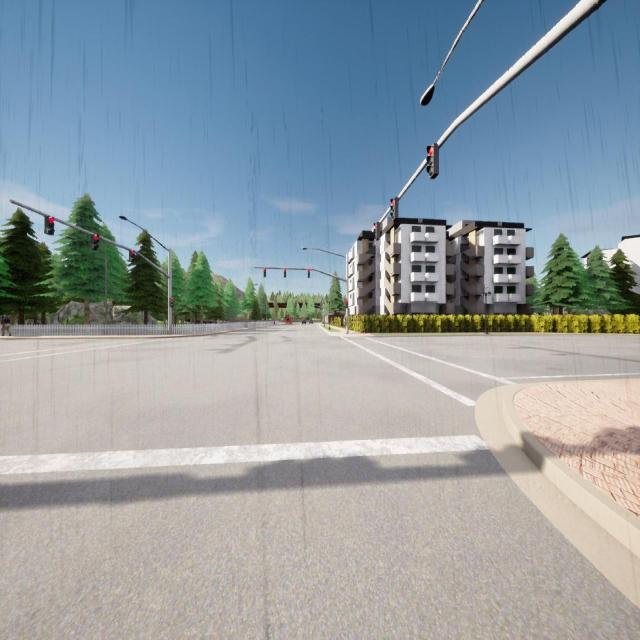Pedestrian: (2, 314, 12, 336)
Vehicle: (285, 316, 292, 325), (302, 319, 306, 324), (309, 320, 314, 324)
traffic_light: (426, 143, 438, 179), (390, 198, 398, 222), (44, 216, 54, 235), (374, 222, 381, 240), (92, 235, 100, 250), (129, 250, 135, 260), (170, 298, 173, 307), (264, 268, 266, 278), (284, 268, 286, 278), (308, 268, 310, 278), (346, 299, 348, 308)
